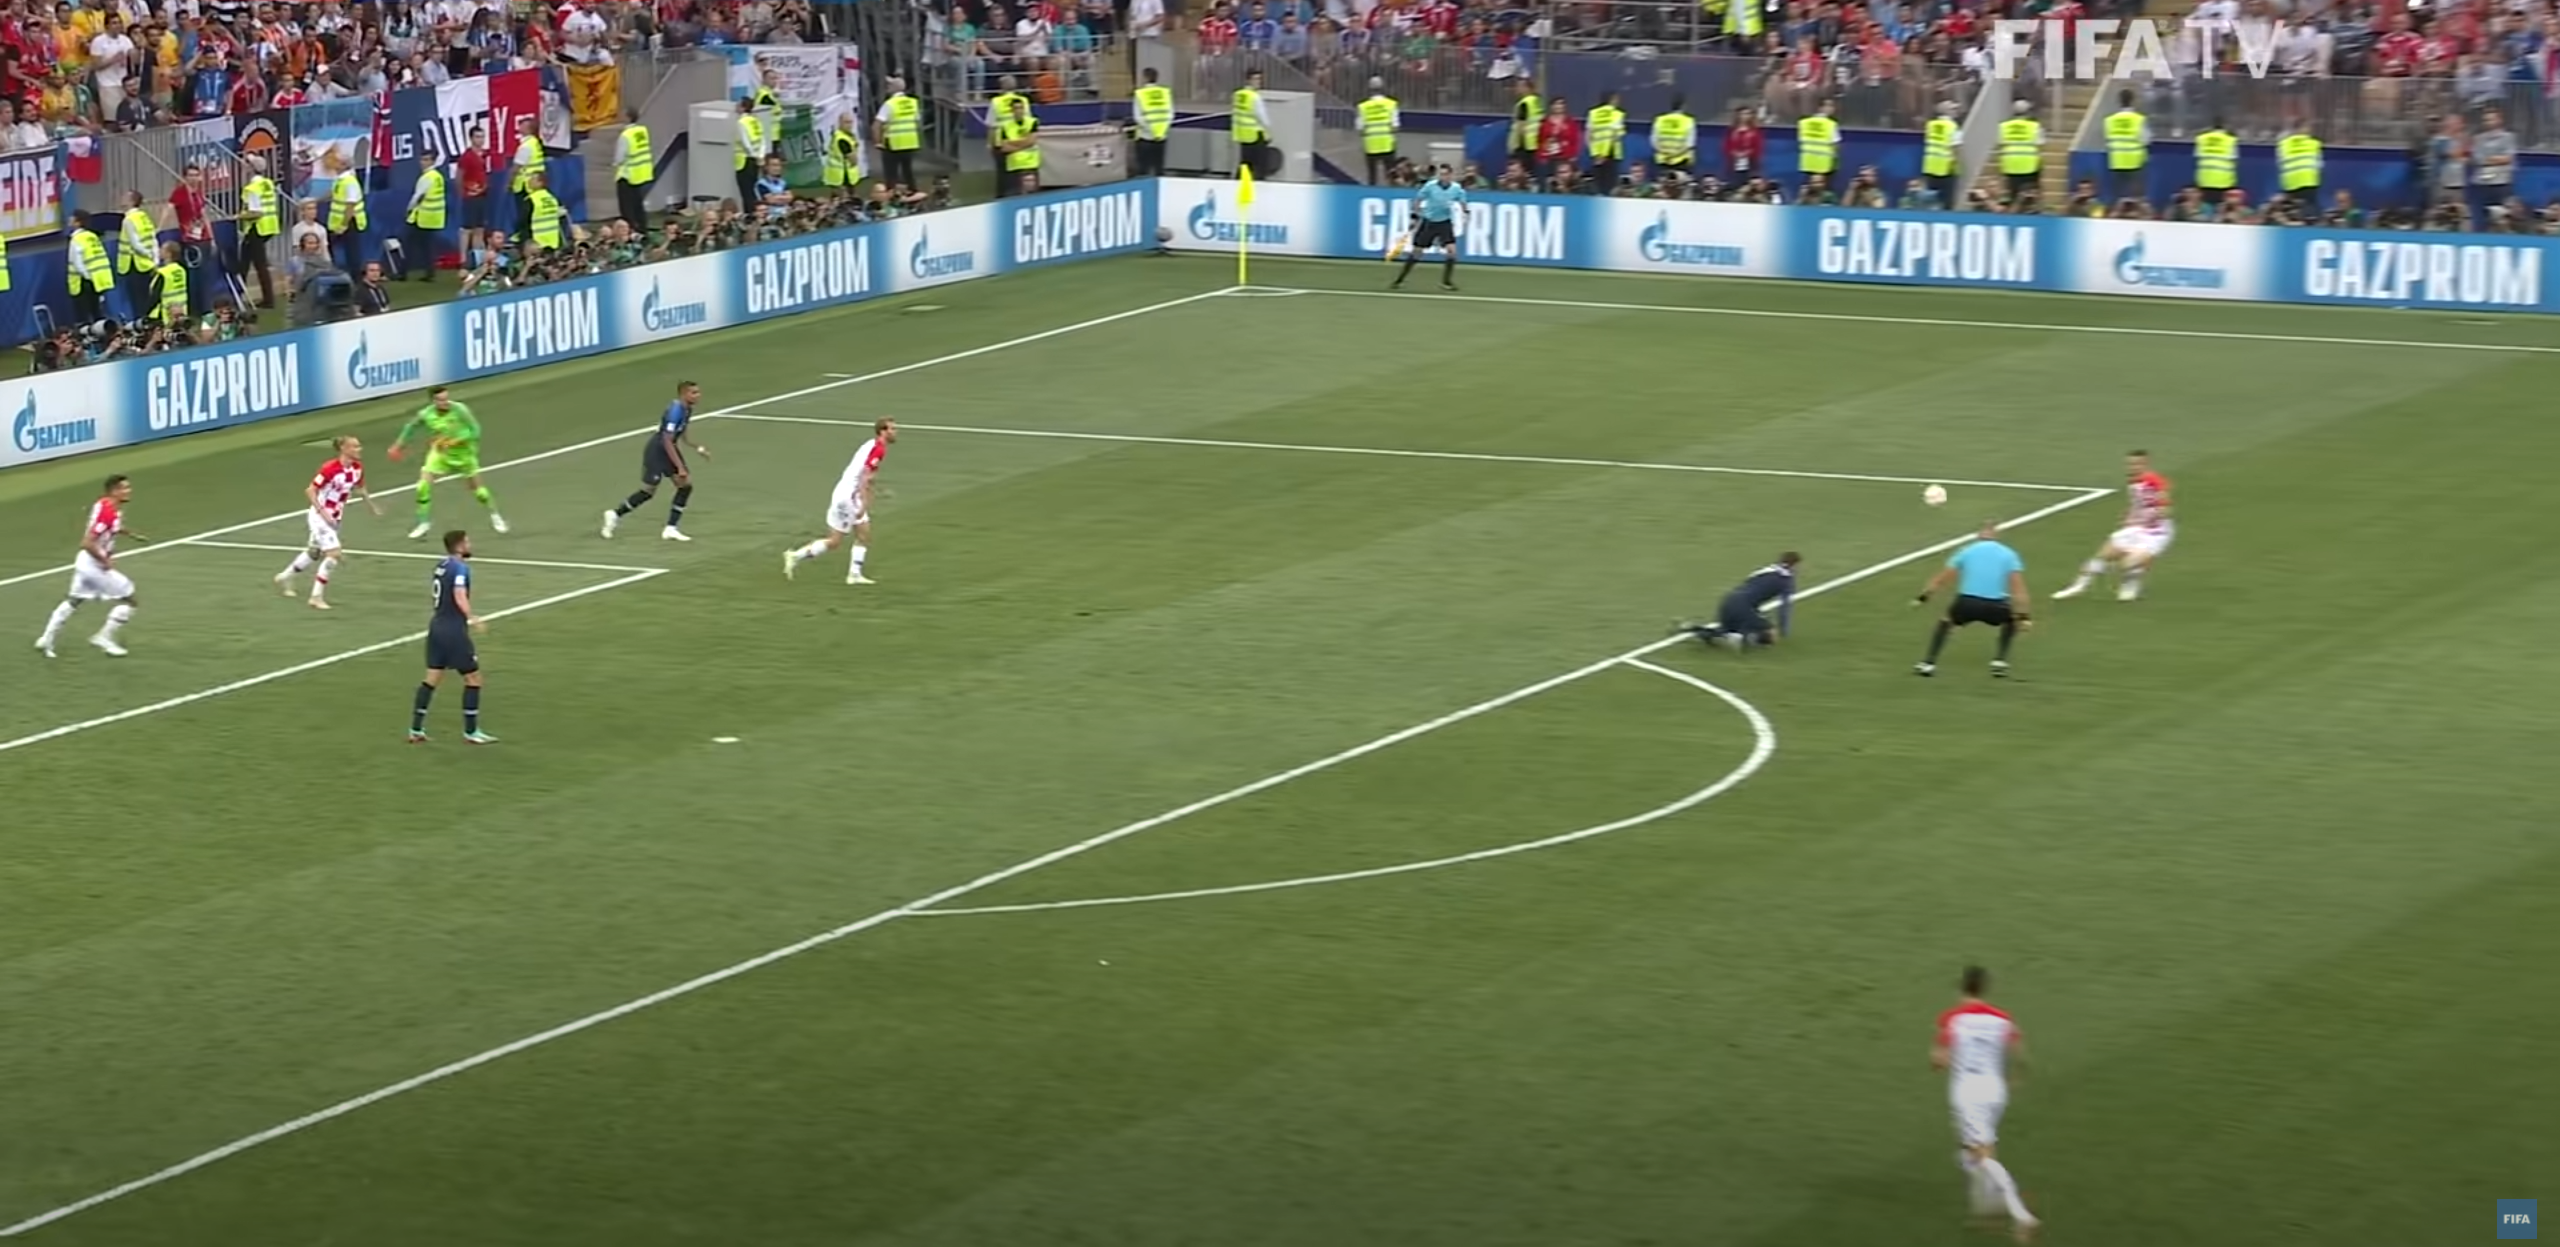Ball: (1917, 478, 1953, 516)
Goalie: (385, 385, 509, 540)
Referee: (1910, 519, 2034, 686), (1384, 163, 1473, 294)
Team A: (1927, 961, 2046, 1244), (38, 477, 155, 661), (782, 416, 900, 586), (273, 433, 384, 612), (2051, 449, 2176, 604)
Team B: (405, 532, 501, 748), (599, 380, 713, 544), (1670, 547, 1806, 656)
